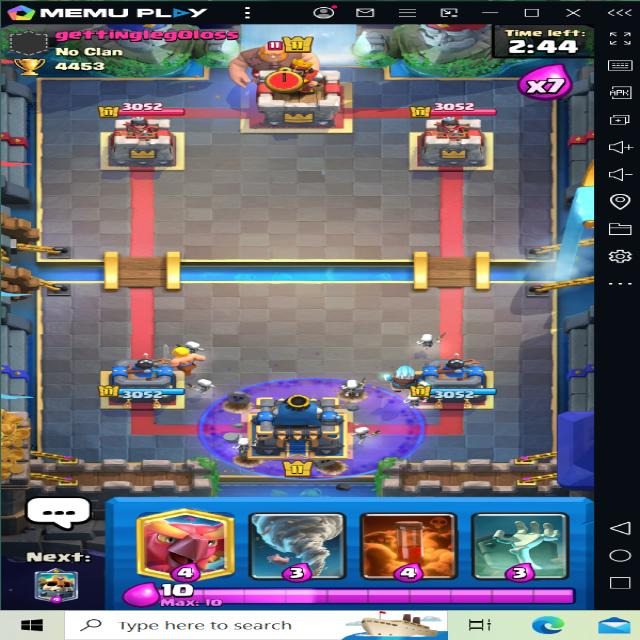giant: (228, 37, 326, 89)
